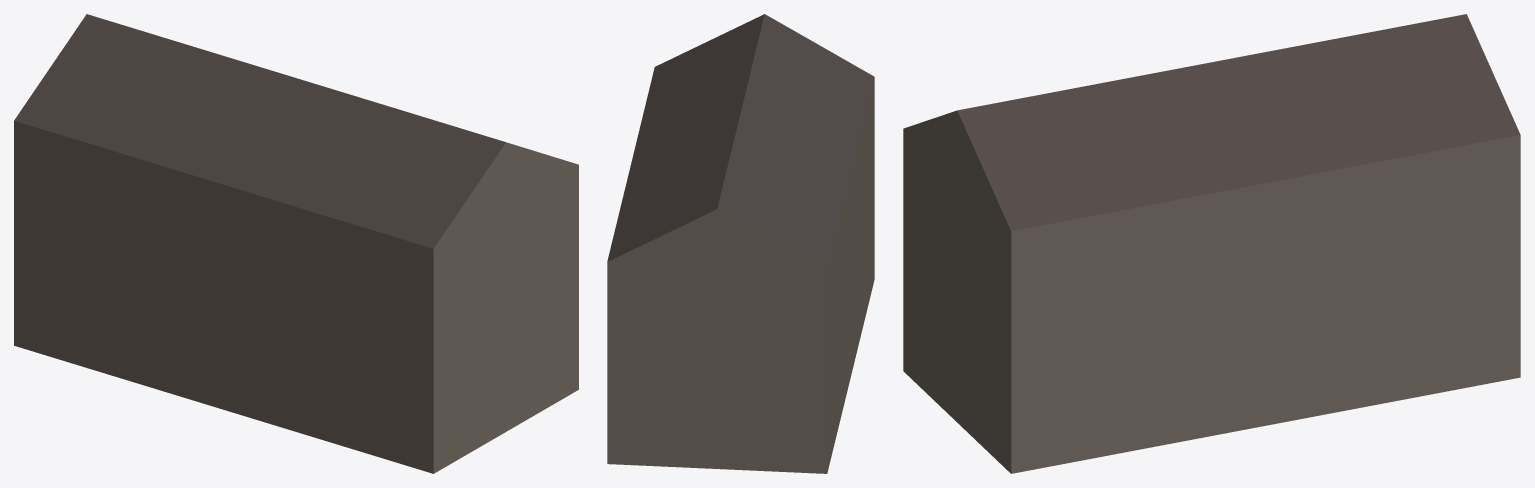
3 views of the same model, side by side, from view 1: azimuth 30°, elevation 25°; view 2: azimuth 150°, elevation 25°; view 3: azimuth 270°, elevation 25° (orthographic). The views are drawn at different scales.
Visible parts, largest first — view 1: HP-w859088447; view 2: HP-w859088447; view 3: HP-w859088447.
Part boxes in pixels (x1,y1,x2,y2): HP-w859088447: [14, 14, 578, 473]; HP-w859088447: [607, 14, 874, 473]; HP-w859088447: [903, 14, 1520, 473].
Bounding box in the file's own units: 15.85 × 11.58 × 20.76.
